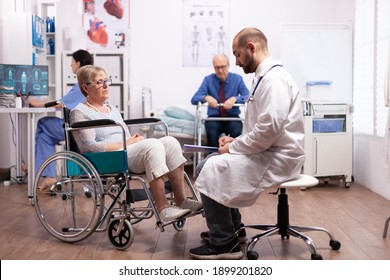wheelchair: (34, 64, 202, 250)
